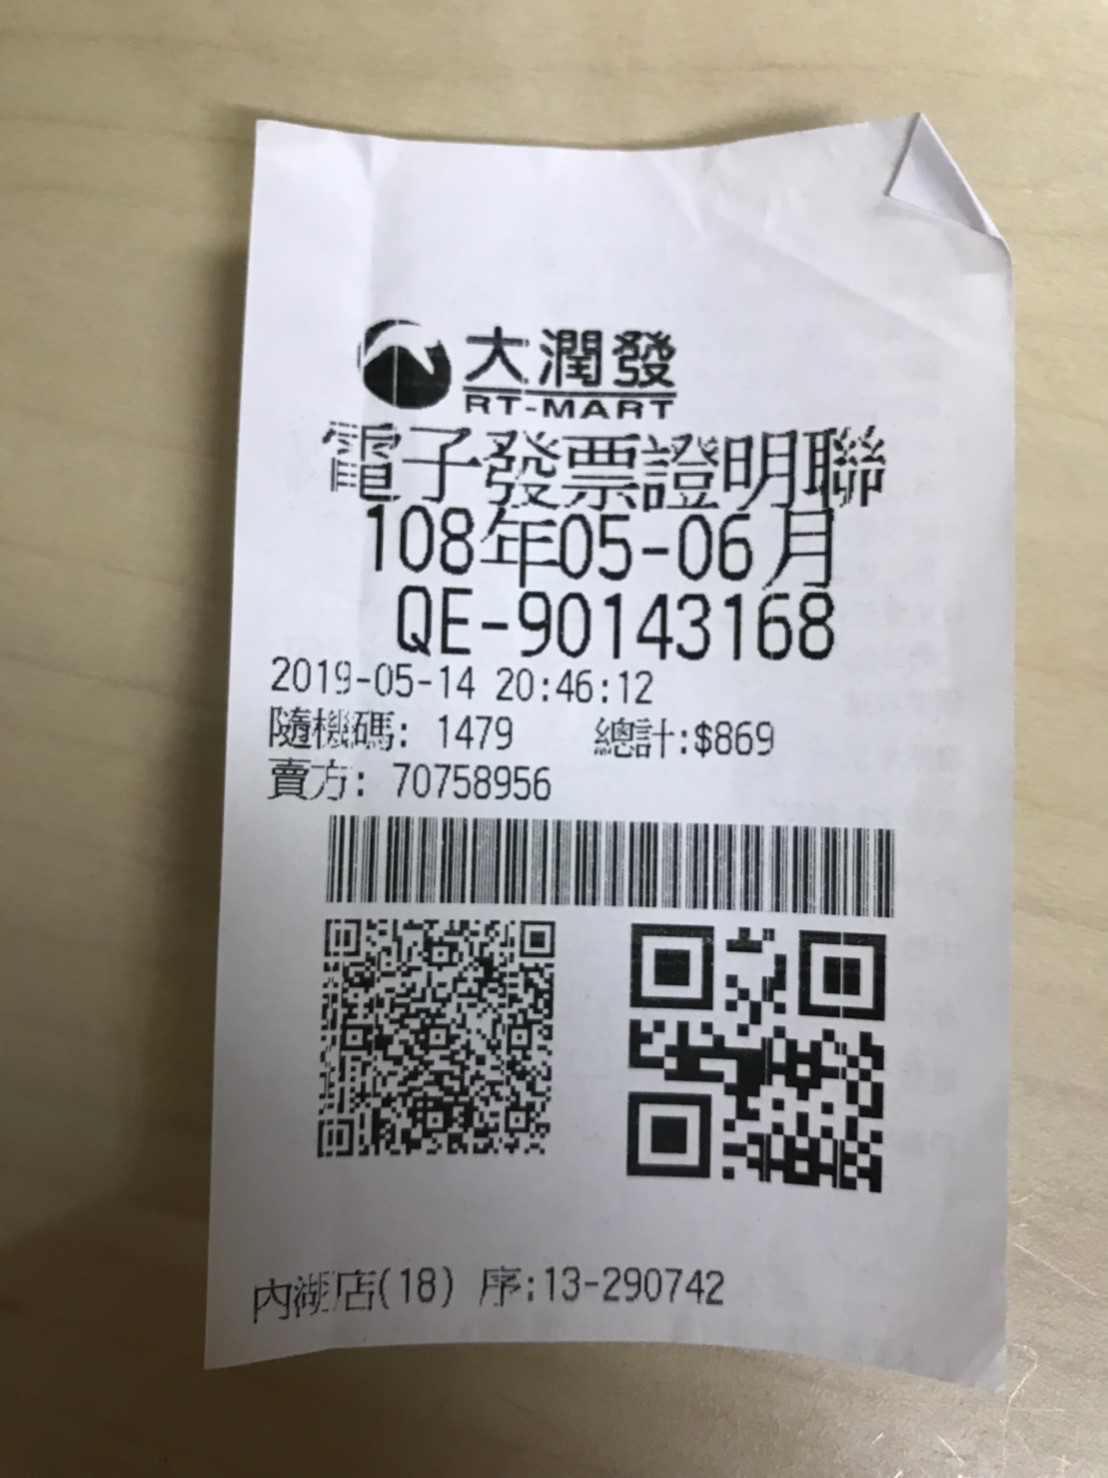Date_New: (365, 498, 834, 591)
Number_New: (514, 585, 841, 660)
